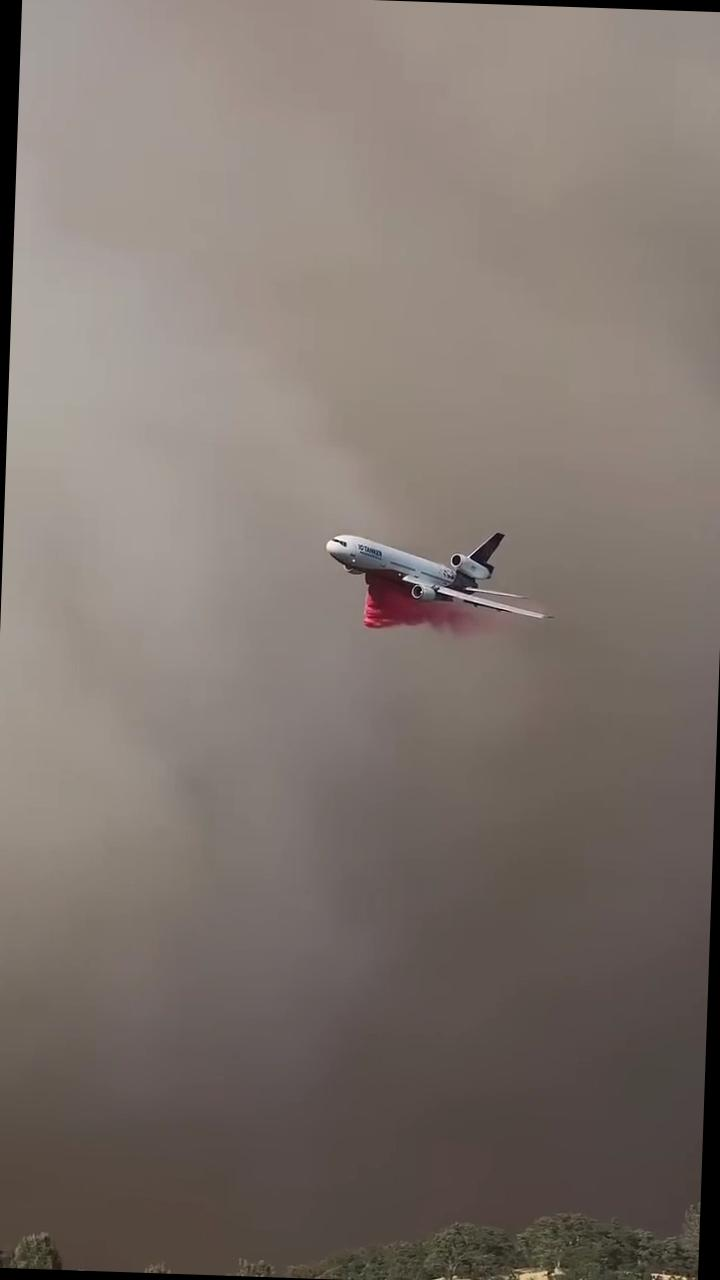Smoke: (0, 682, 717, 1219), (4, 0, 720, 532)
